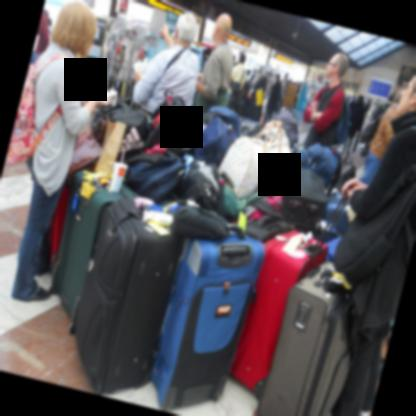backpack: (4, 51, 77, 167), (144, 89, 197, 156), (122, 149, 185, 204), (290, 144, 342, 197), (174, 158, 219, 213), (357, 94, 393, 157), (243, 185, 285, 221), (272, 110, 299, 160), (332, 87, 352, 147), (241, 119, 262, 137), (275, 84, 282, 101)
handbag: (328, 176, 416, 286), (5, 49, 63, 163), (217, 119, 293, 201), (91, 104, 148, 162), (69, 116, 109, 184)
suitcase: (67, 194, 182, 395), (150, 237, 265, 413), (232, 229, 330, 396), (257, 265, 350, 416), (48, 171, 134, 323), (228, 128, 291, 201), (282, 165, 329, 226), (191, 116, 237, 169), (246, 213, 288, 242)
